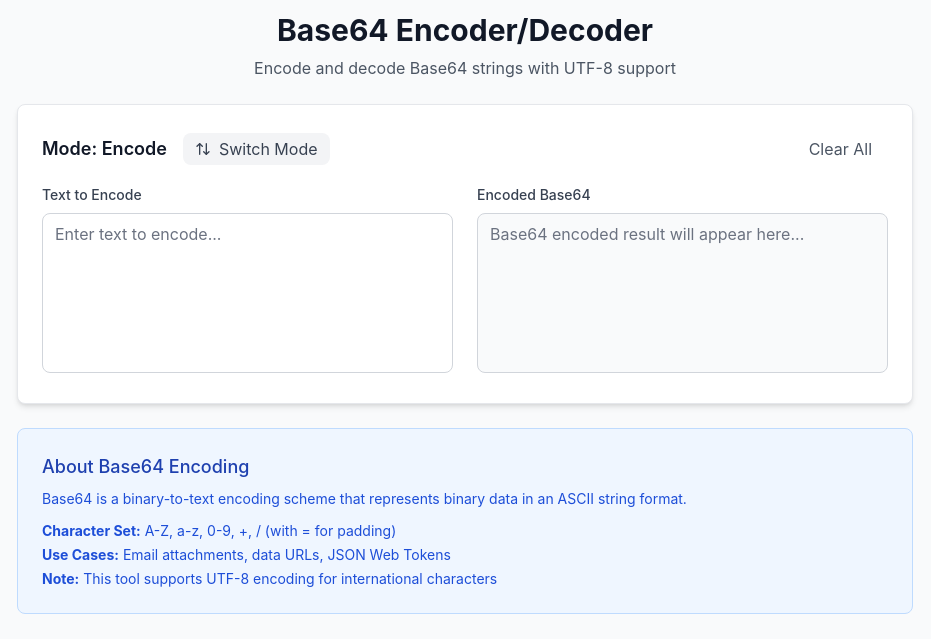
Scenario: Base64Tool › encodes text to base64
Step 1. Type "Hello World!" into the text box with placeholder "Enter text to encode..." → (248, 293), box left=42, top=213, right=453, bottom=373
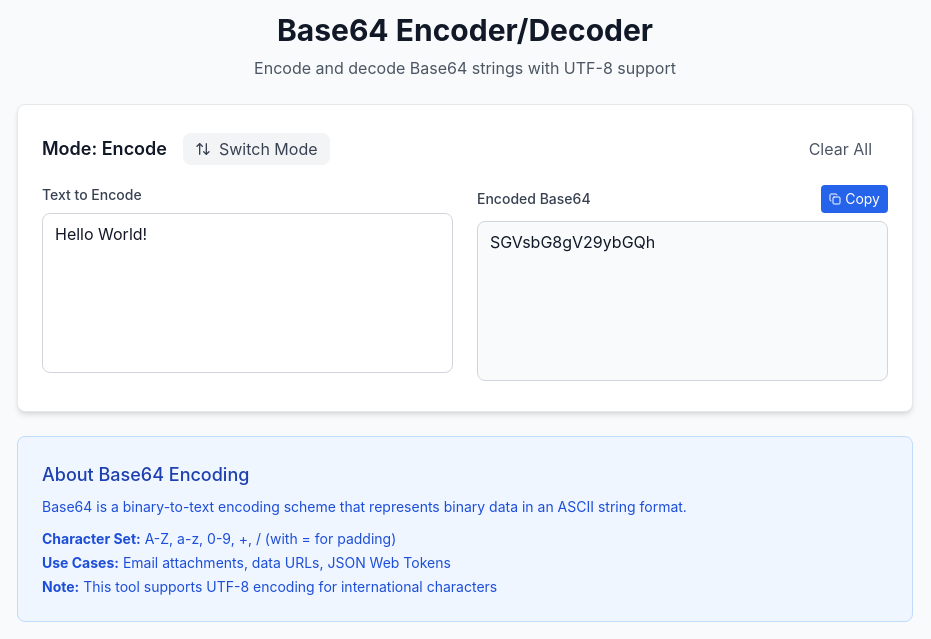
Result: the text box with placeholder "Base64 encoded result will appear here..." below "Encoded Base64" holds "SGVsbG8gV29ybGQh" at left=477, top=221, right=888, bottom=381
